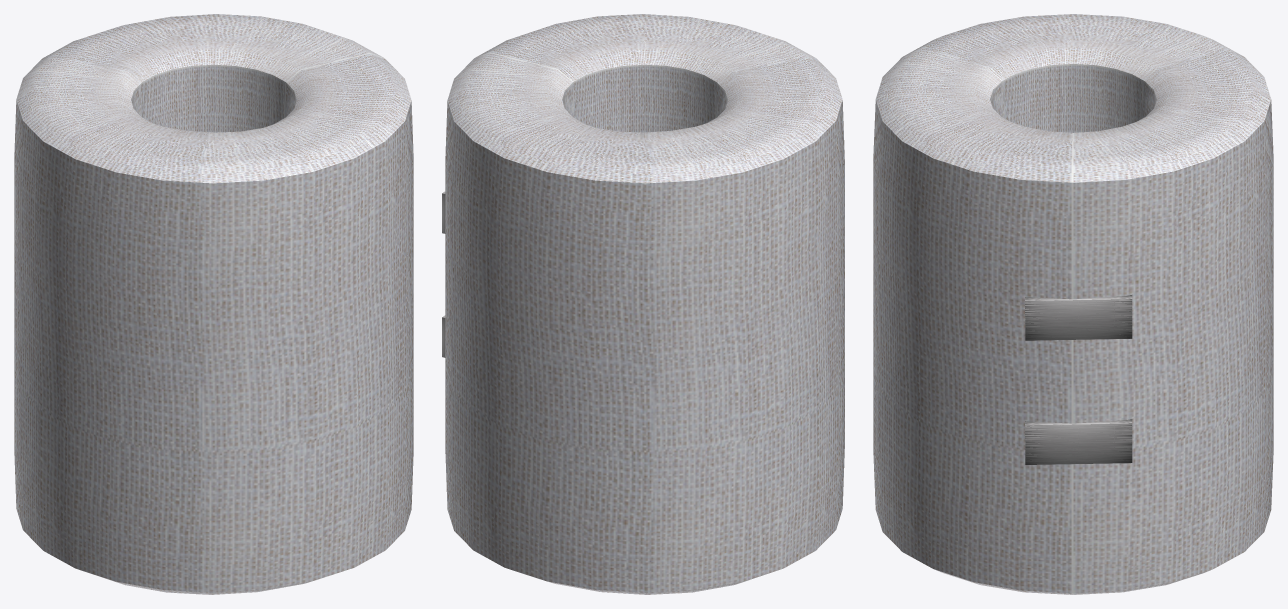
File: bandage75.fbx
3 views of the same model, side by side, from view 1: azimuth 30°, elevation 25°; view 2: azimuth 150°, elevation 25°; view 3: azimuth 270°, elevation 25° (orthographic).
Parts seen in each view (by area): view 1: Tube001; view 2: Tube001; view 3: Tube001.
Part boxes in pixels (x1,y1,x2,y2): Tube001: (14, 14, 413, 594); Tube001: (442, 14, 844, 594); Tube001: (873, 14, 1273, 594).
Size of the model in its own units: 30.49 by 35.73 by 30.29.
Materials: 2 (2 with a texture image).
